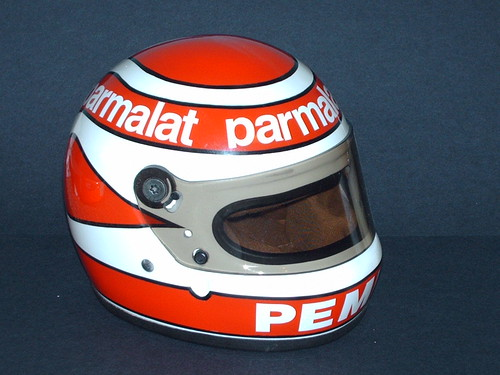helmet: (62, 29, 391, 351)
